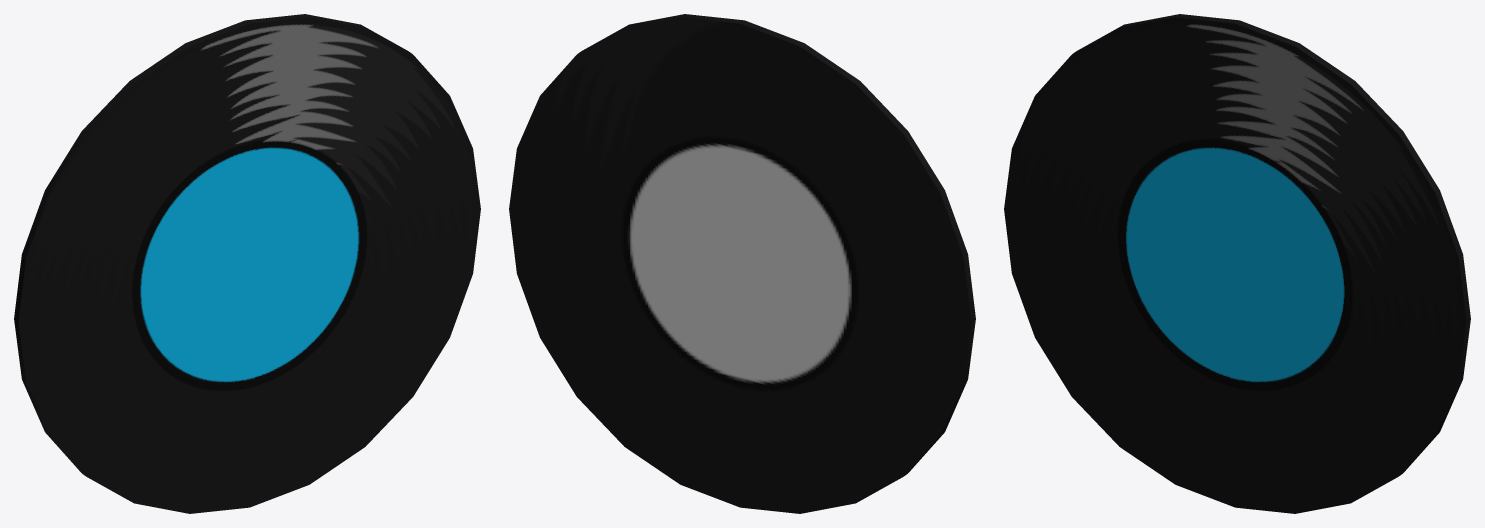
File: CafeDecorVinyl01_1.FBX
3 renders of one model, left to right at view 1: azimuth 30°, elevation 25°; view 2: azimuth 150°, elevation 25°; view 3: azimuth 330°, elevation 25°, orthographic.
Visible parts, largest first — view 1: CafeDecorVinyl01_1; view 2: CafeDecorVinyl01_1; view 3: CafeDecorVinyl01_1.
Boxes of the visible parts, x1,y1,x2,y2 form: CafeDecorVinyl01_1: (14,14,480,513); CafeDecorVinyl01_1: (509,14,975,513); CafeDecorVinyl01_1: (1004,14,1470,513).
Size of what is drawn, in the model's own units: 0.6 by 0.6 by 0.01.
